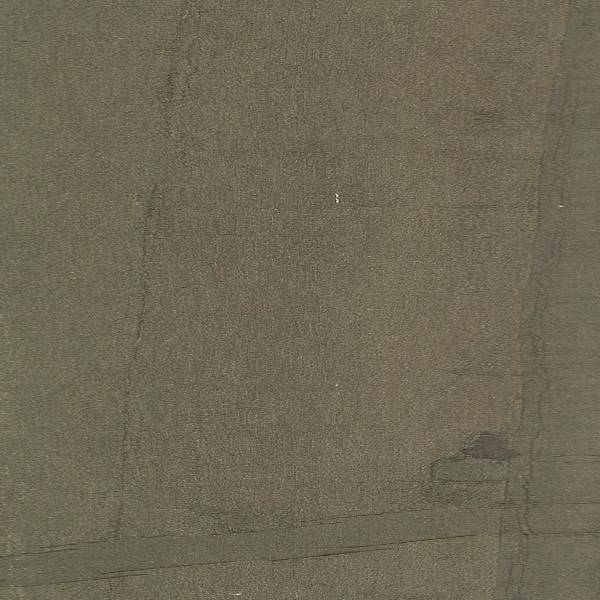road_damage: (27, 500, 485, 581), (419, 426, 572, 566)
